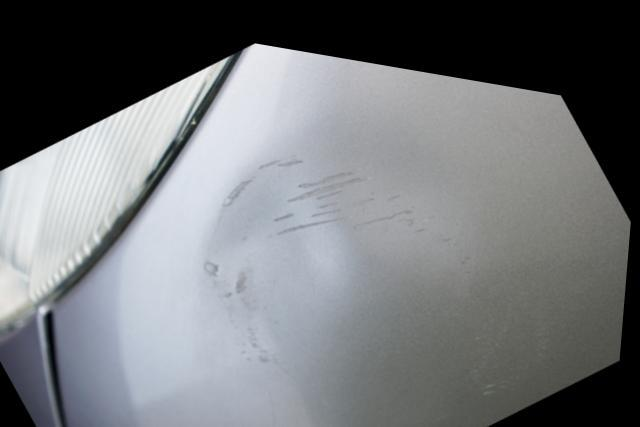dent: (211, 121, 482, 352)
